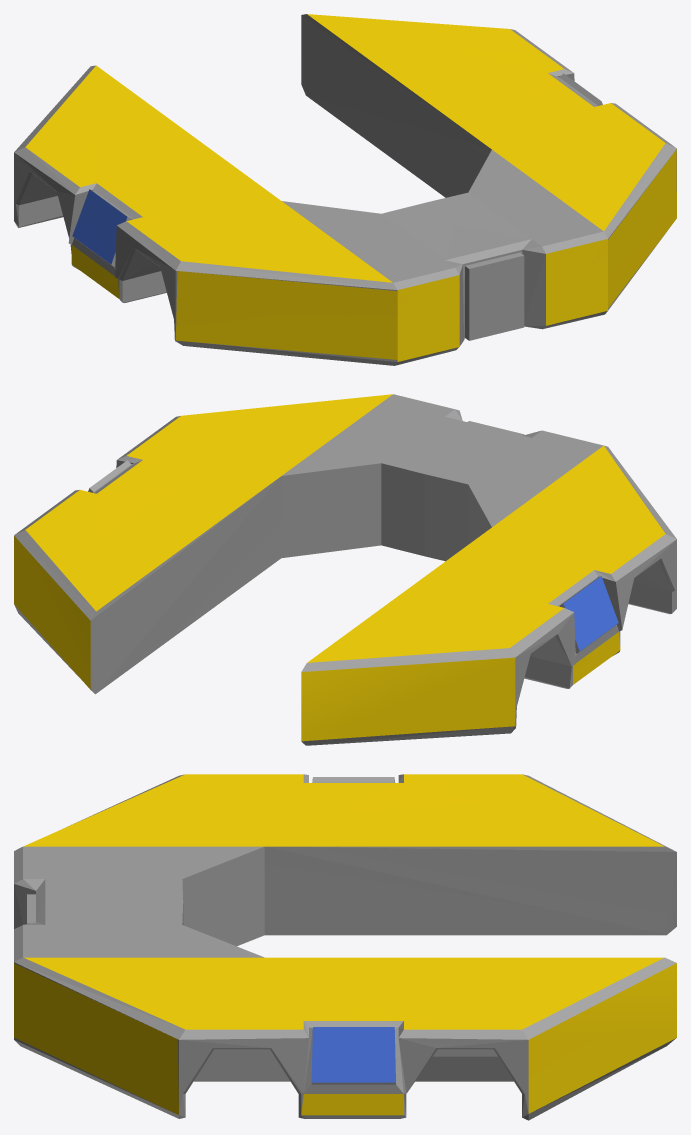
File: tractorbot.glb
The picture shows the model from 3 angles, top to bottom: view 1: azimuth 30°, elevation 25°; view 2: azimuth 150°, elevation 25°; view 3: azimuth 270°, elevation 25°; orthographic projection. The views are drawn at different scales.
Visible parts, largest first — view 1: world; view 2: world; view 3: world.
Part boxes in pixels (x1,y1,x2,y2): world: (14, 14, 676, 365); world: (14, 394, 676, 745); world: (14, 774, 676, 1120).
Size of the model in its own units: 2.01 by 0.3104 by 2.1.
